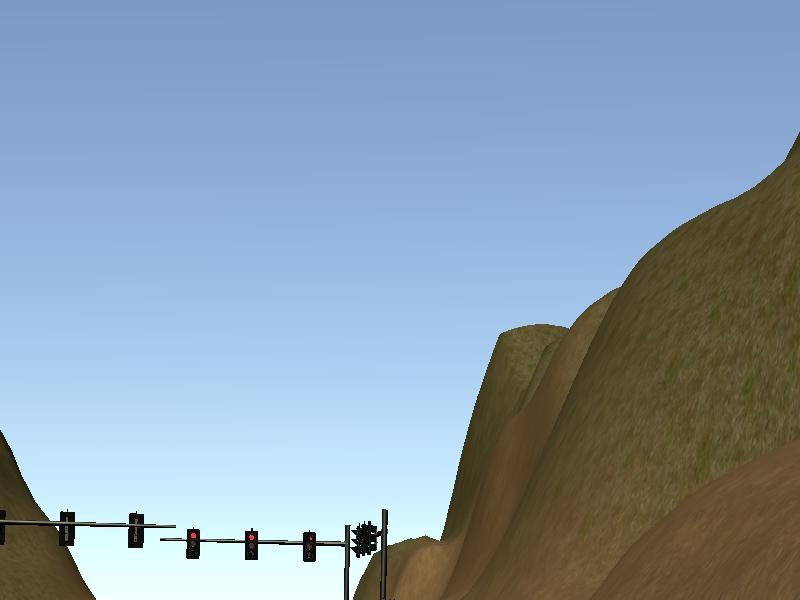traffic_light_red: (178, 529, 342, 562)
